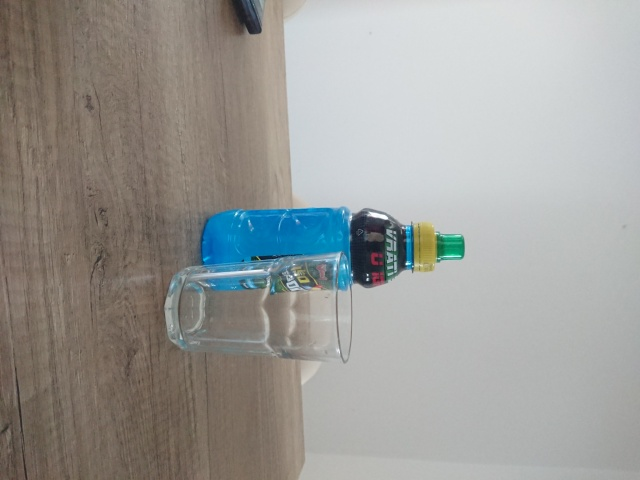Vindi Iso Sport Forest Strawberries 500mL: (199, 204, 467, 293)
